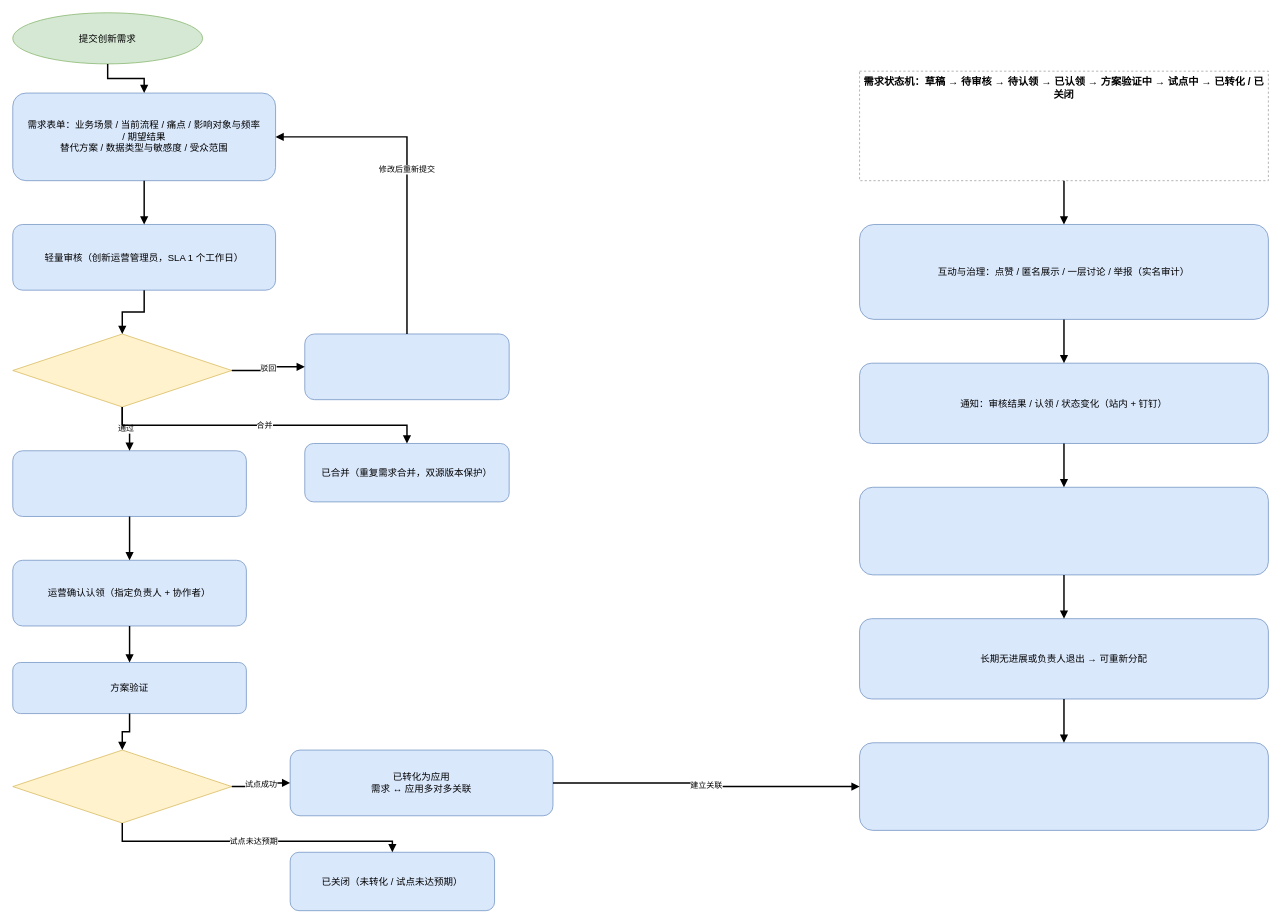
This 1281x923 diagram has some shape labels left out. Here are the shapes that lost their labels. From the top down, the box of each, then its label:
(12, 333, 232, 407): 审核结果？
(304, 333, 509, 400): 已驳回（必填原因，可修改后重新提交）
(12, 450, 246, 516): 待认领（全员可提交方案并表达偏好）
(859, 487, 1268, 575): 并发保护与审计：合并 / 认领 / 状态推进均有并发与审计
(12, 749, 232, 823): 试点结果？
(859, 742, 1268, 830): 需求与应用多对多关联（主要解决方案唯一约束）
